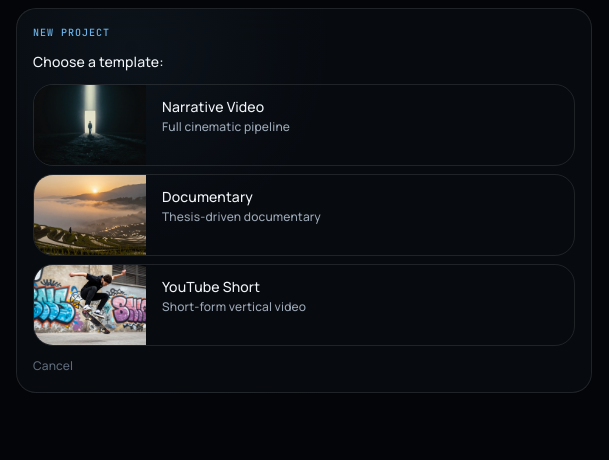
Test: NewProjectInline › Back button returns to style from duration
Click the text "Narrative Video": point(213, 106) [162, 97, 264, 116]
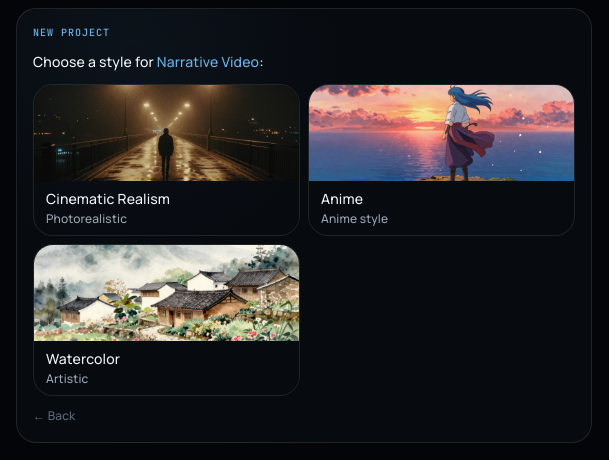
Click the text "Anime": point(342, 198) [321, 189, 363, 208]
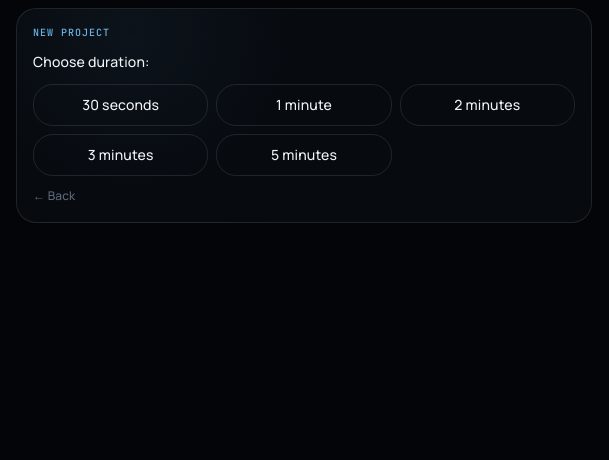
Result: the text "30 seconds" is shown at [82, 95, 159, 114]
Click the button "← Back": point(54, 196) [33, 188, 75, 204]
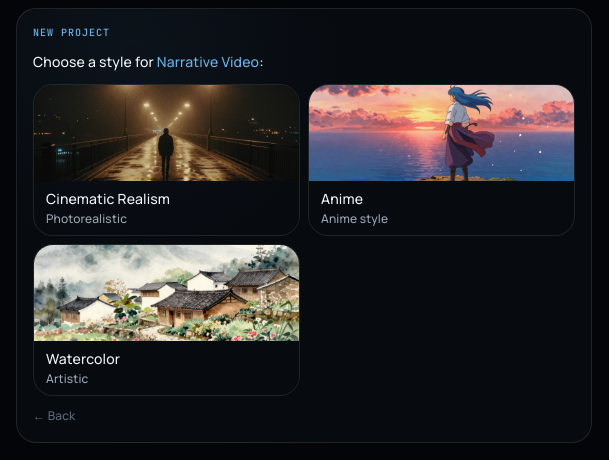
Result: the text "Anime" is shown at [321, 189, 363, 208]
Result: the text "Watercolor" is shown at [46, 349, 120, 368]
